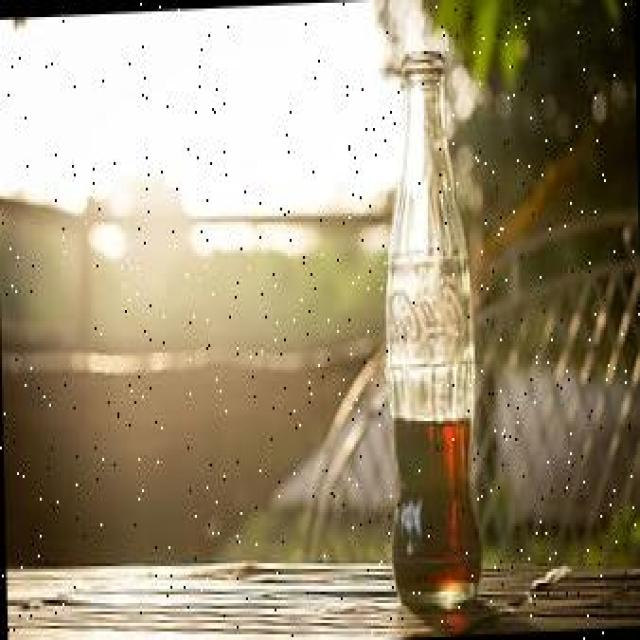coca-cola: (369, 37, 487, 606)
